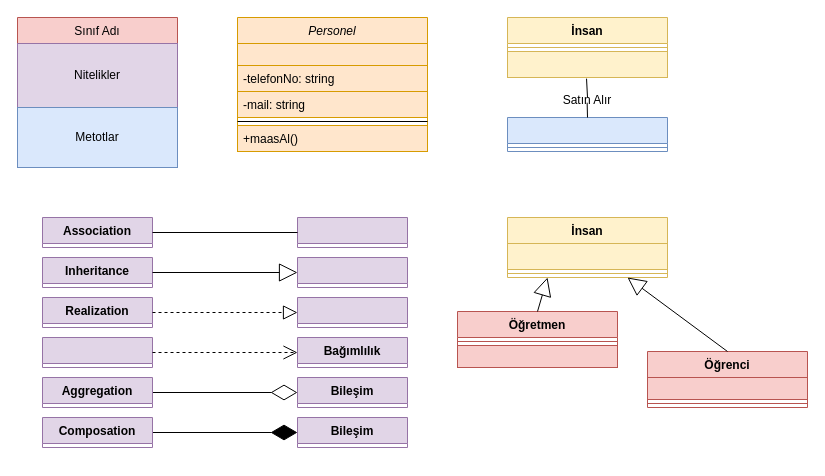
Some shapes in this 825 by 476 pixel diagram are drawn without their labels. The centre of each missing label's shape, as x and y in pixels:
"#adSoyad: string" goes at (x=587, y=256).
"- SatınAl()" goes at (x=587, y=64).
"-adSoyad: string" goes at (x=332, y=54).
"-okulNo: string" goes at (x=727, y=388).
"Birleşim" goes at (x=352, y=232).
"Dependency" goes at (x=97, y=352).
"Gerçekleme" goes at (x=352, y=312).
"Kalıtım" goes at (x=352, y=272).
"Kıyafet" goes at (x=587, y=134).
"YazılıYap()" goes at (x=537, y=356).
